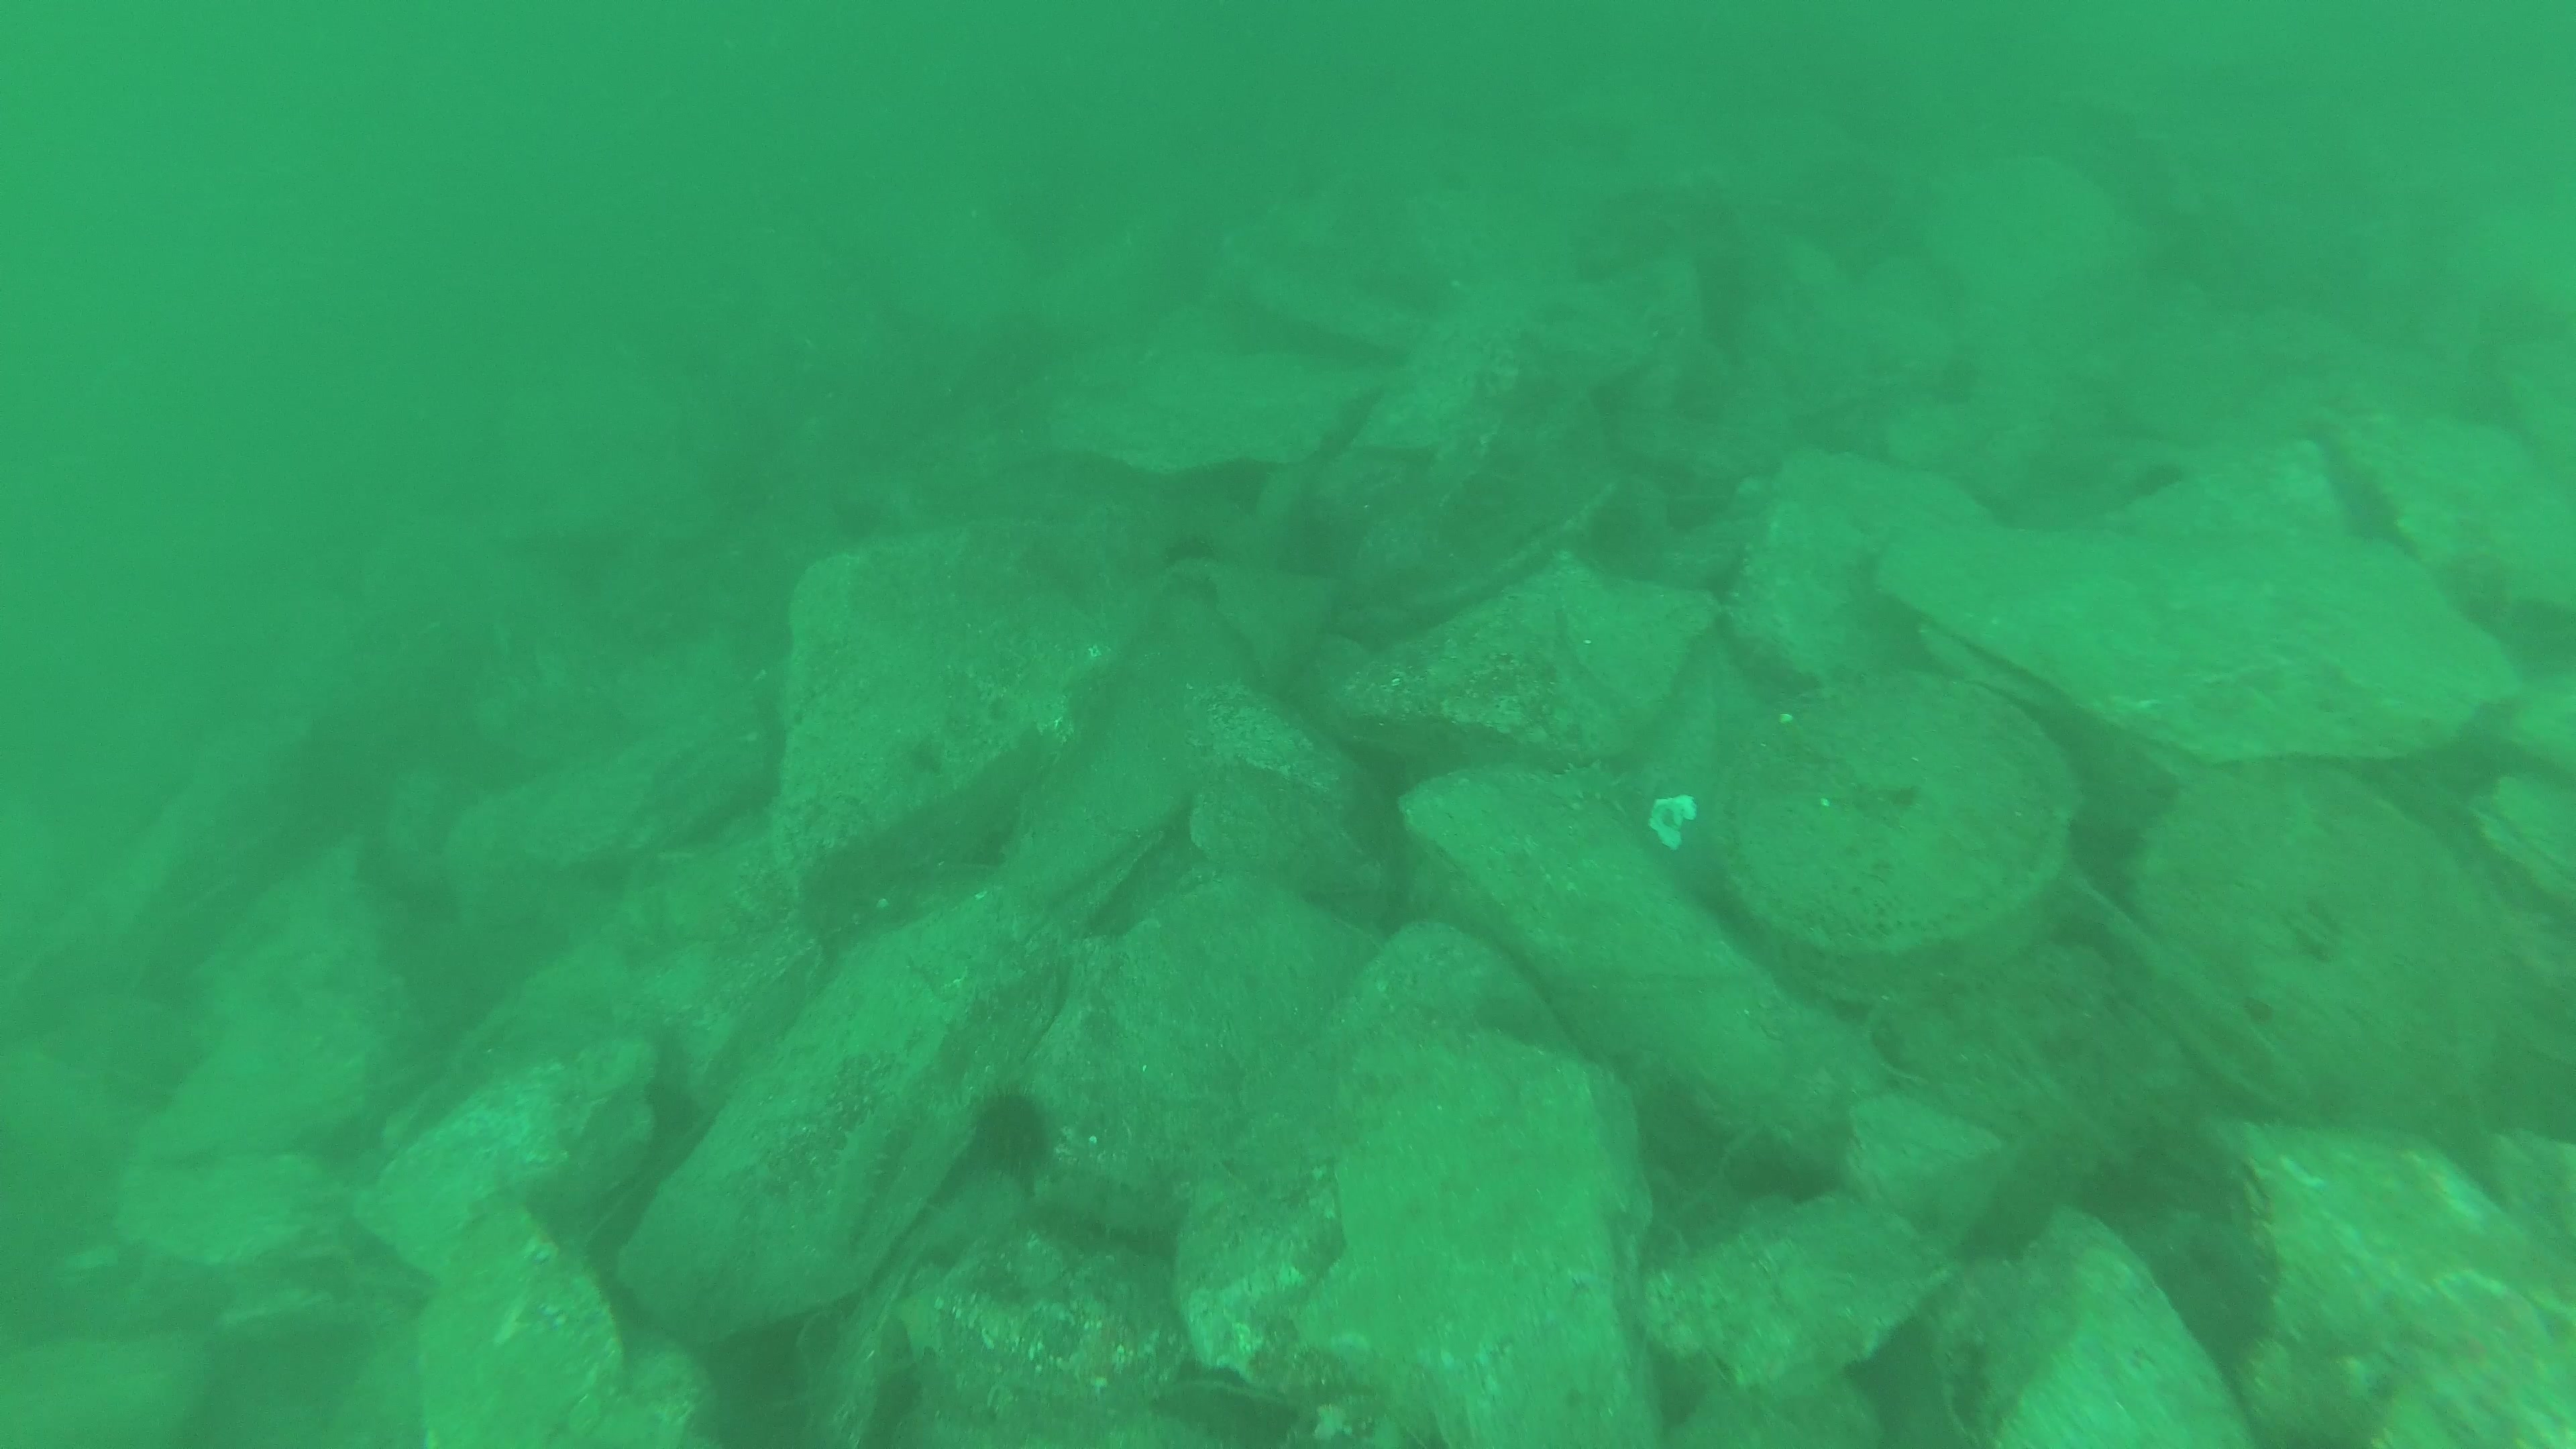echinus: (971, 1085, 1058, 1182)
holothurian: (1543, 752, 1647, 823)
